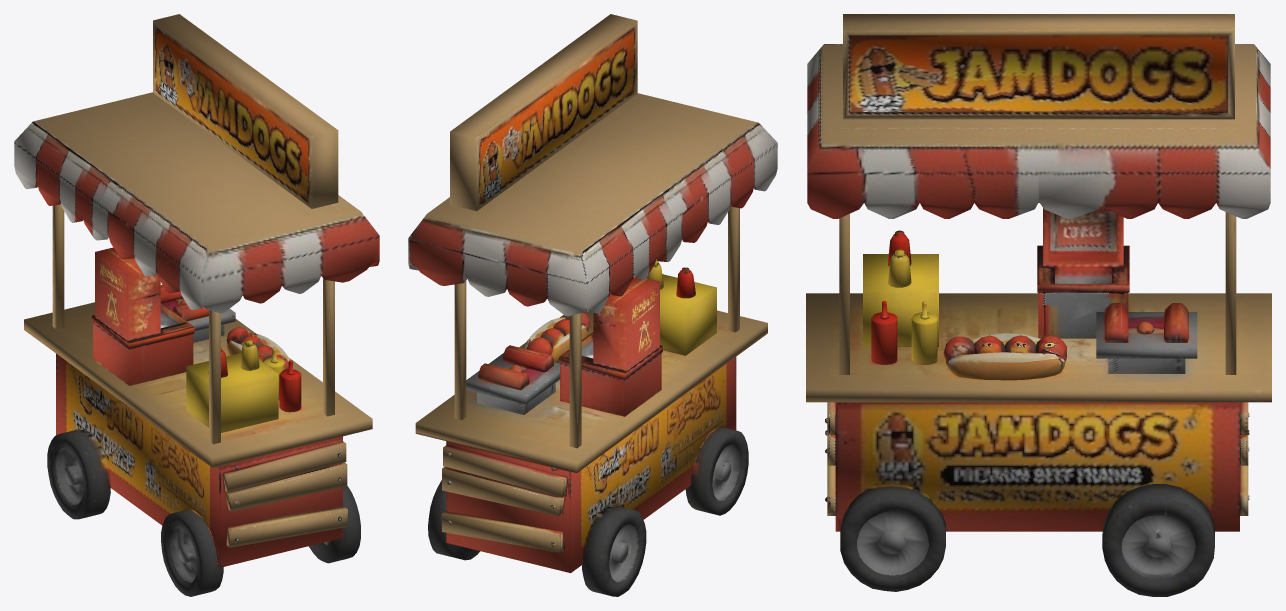
Rendered from hotdog_cart.glb.
3 views of the same model, side by side, from view 1: azimuth 30°, elevation 25°; view 2: azimuth 150°, elevation 25°; view 3: azimuth 270°, elevation 25° (orthographic). The views are drawn at different scales.
Parts seen in each view (by area): view 1: tripo_node_59f48223-9514-4390-b703-abd1ccb19d85; view 2: tripo_node_59f48223-9514-4390-b703-abd1ccb19d85; view 3: tripo_node_59f48223-9514-4390-b703-abd1ccb19d85.
Boxes of the visible parts, left/top/right/bottom form: tripo_node_59f48223-9514-4390-b703-abd1ccb19d85: left=14, top=14, right=379, bottom=596; tripo_node_59f48223-9514-4390-b703-abd1ccb19d85: left=408, top=14, right=777, bottom=596; tripo_node_59f48223-9514-4390-b703-abd1ccb19d85: left=806, top=14, right=1271, bottom=596.
Bounding box in the file's own units: 0.4238 × 0.998 × 0.7676.
Materials: 1 (1 with a texture image).
